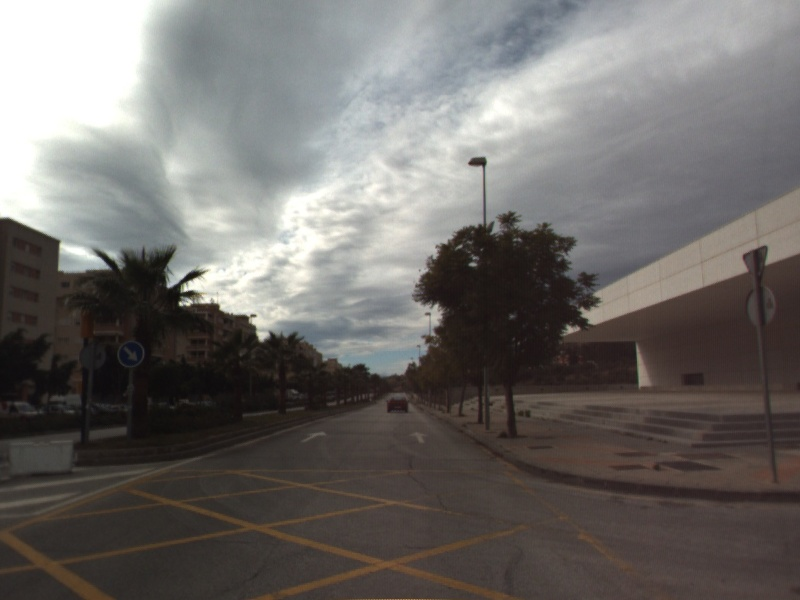STRAIGHT: (298, 429, 329, 444), (407, 429, 430, 445)
